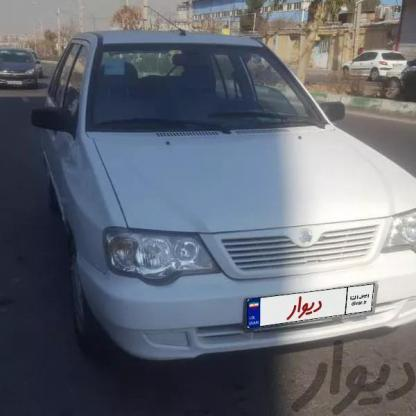Car: (30, 29, 416, 362), (338, 47, 416, 92), (0, 46, 51, 87)
